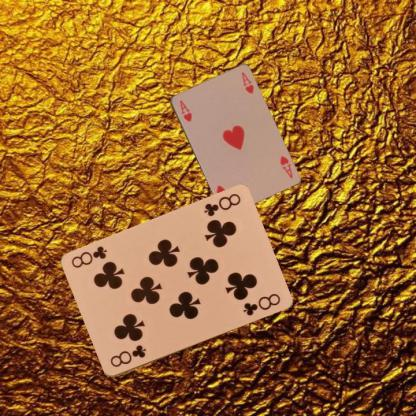8c: (201, 192, 242, 219), (108, 342, 148, 369)
Ah: (276, 153, 294, 179), (177, 97, 193, 123)
